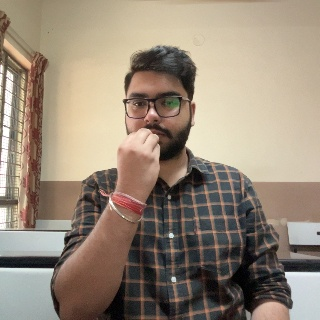Food: (115, 128, 161, 214)
